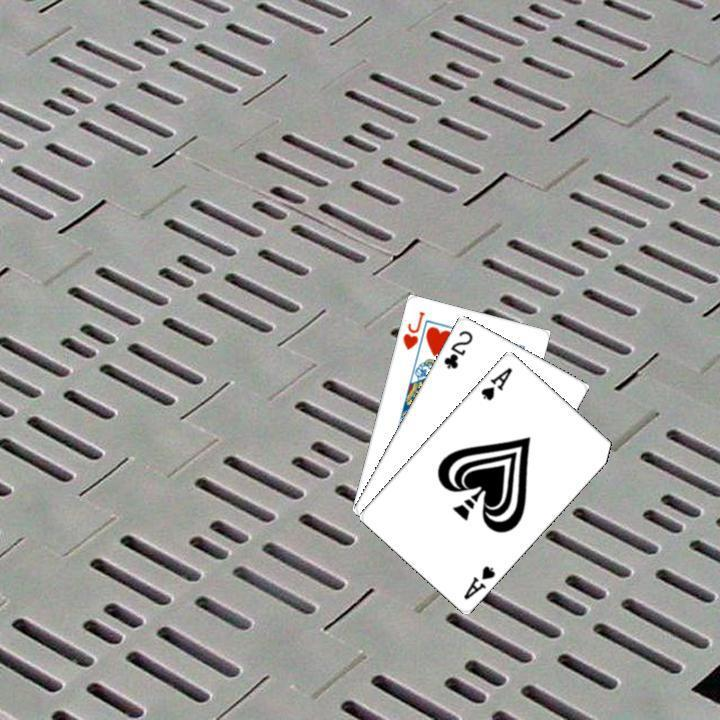2: (439, 325, 475, 371)
A: (459, 560, 497, 601), (476, 362, 514, 402)
J: (398, 307, 426, 351)
